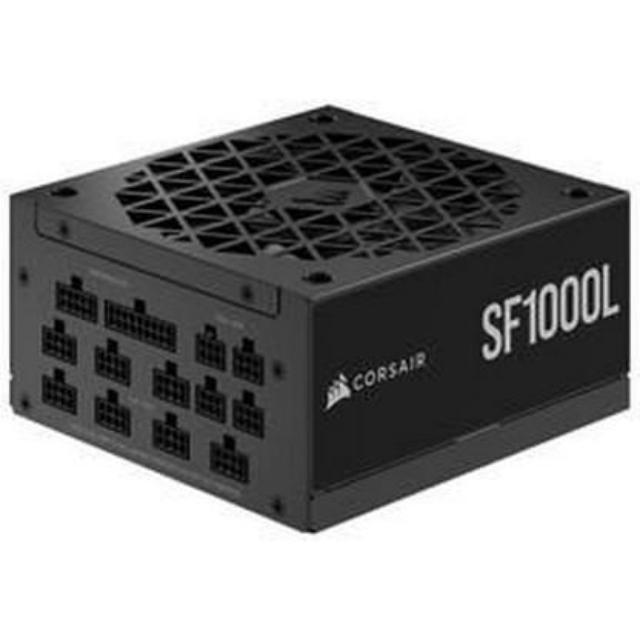PSU: (2, 99, 640, 554)
